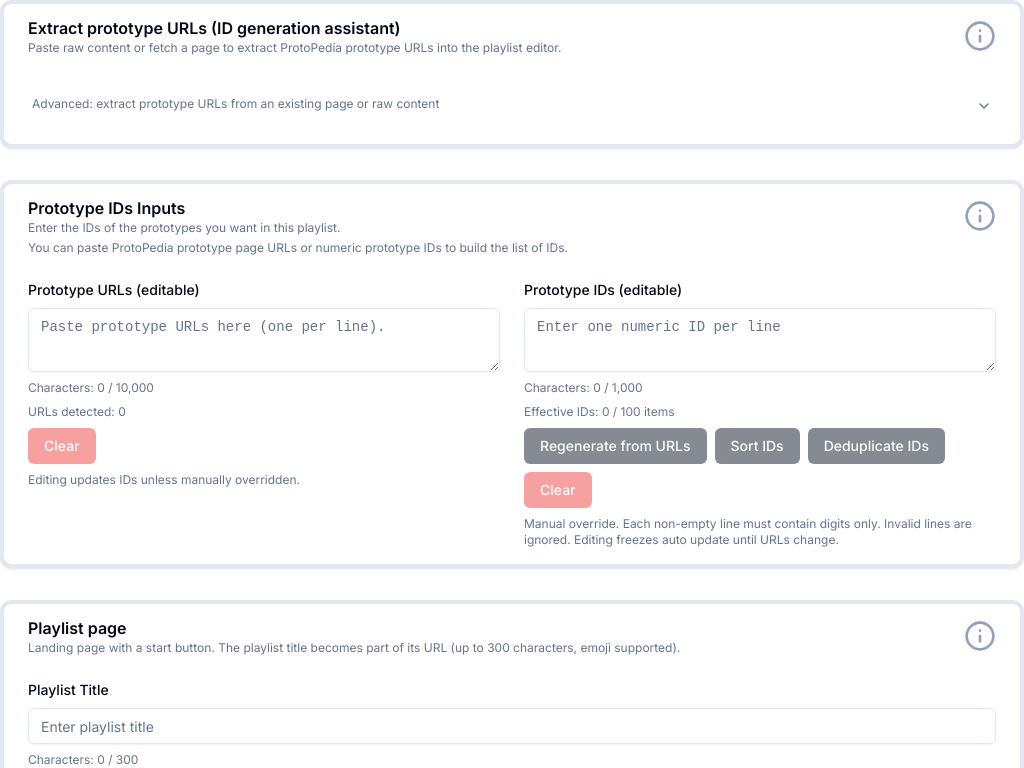
it: Work flow: clear + validation › clears IDs error after Clear IDs and keeps playlist URL disabled when only title is valid
Type "My Playlist" into the field labelled "Playlist Title" at (512, 726), box [28,708,996,744]
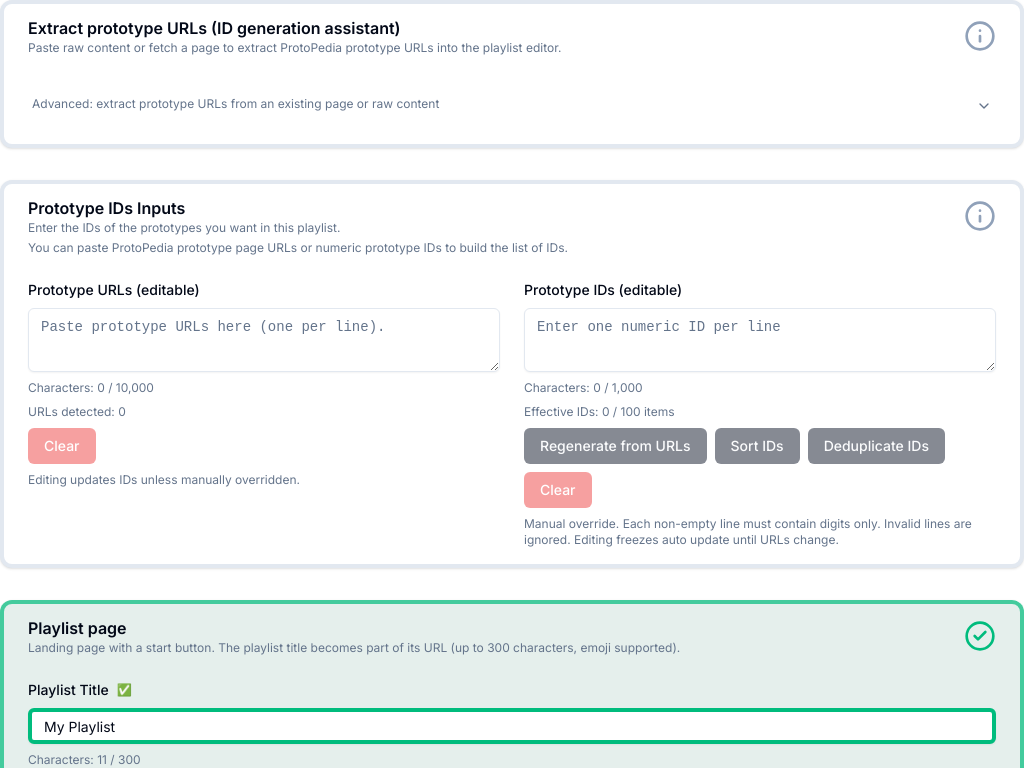
Type "abc" into the text box labelled "Prototype IDs (editable)" at (760, 340), box [524,308,996,372]
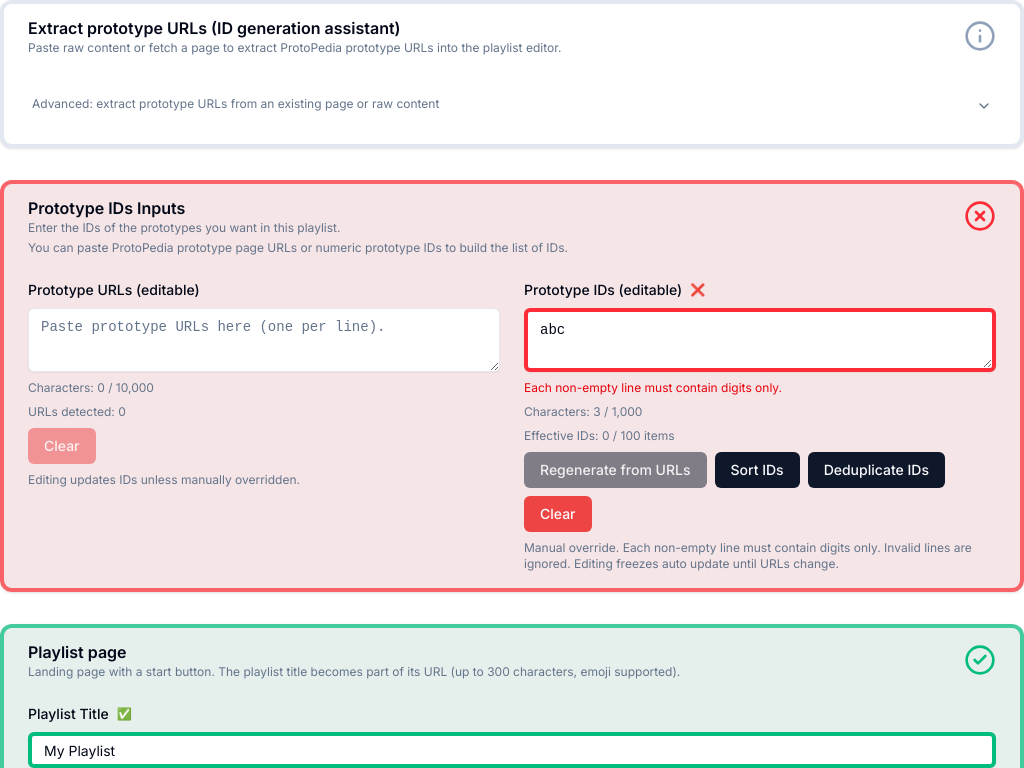
Now the text "❌" is shown, box [690,282,705,298]
Click the button with aria-label "Clear manual IDs" at (558, 514), box [524,496,592,532]
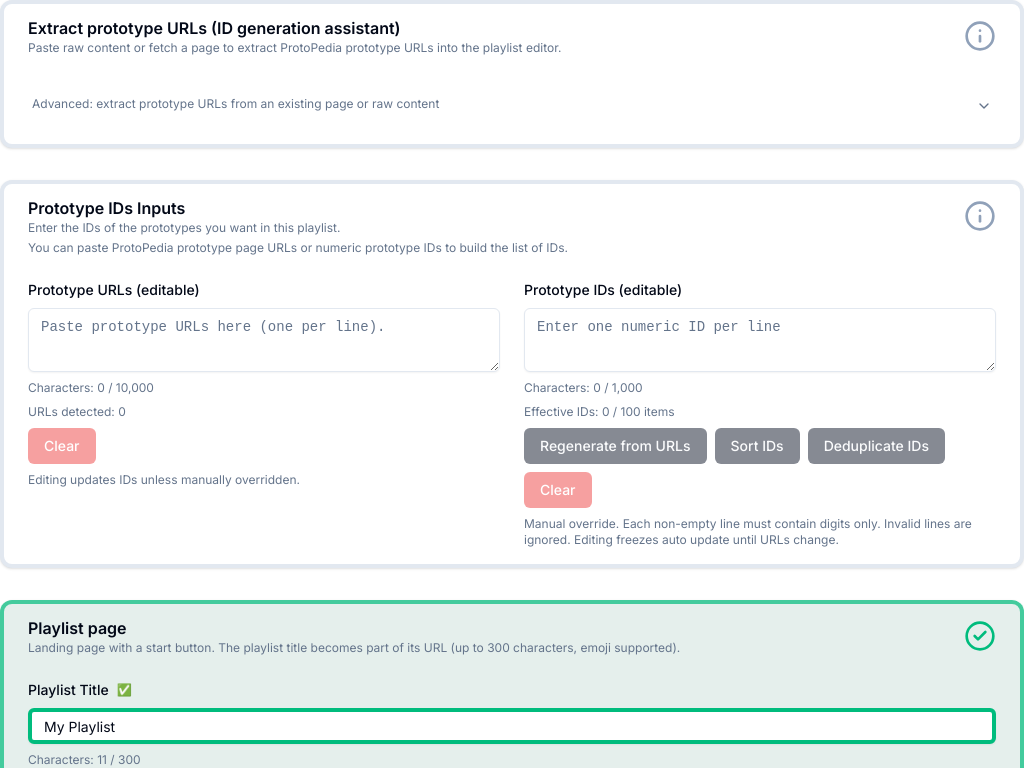
Now the text box labelled "Prototype IDs (editable)" is empty, box [524,308,996,372]
